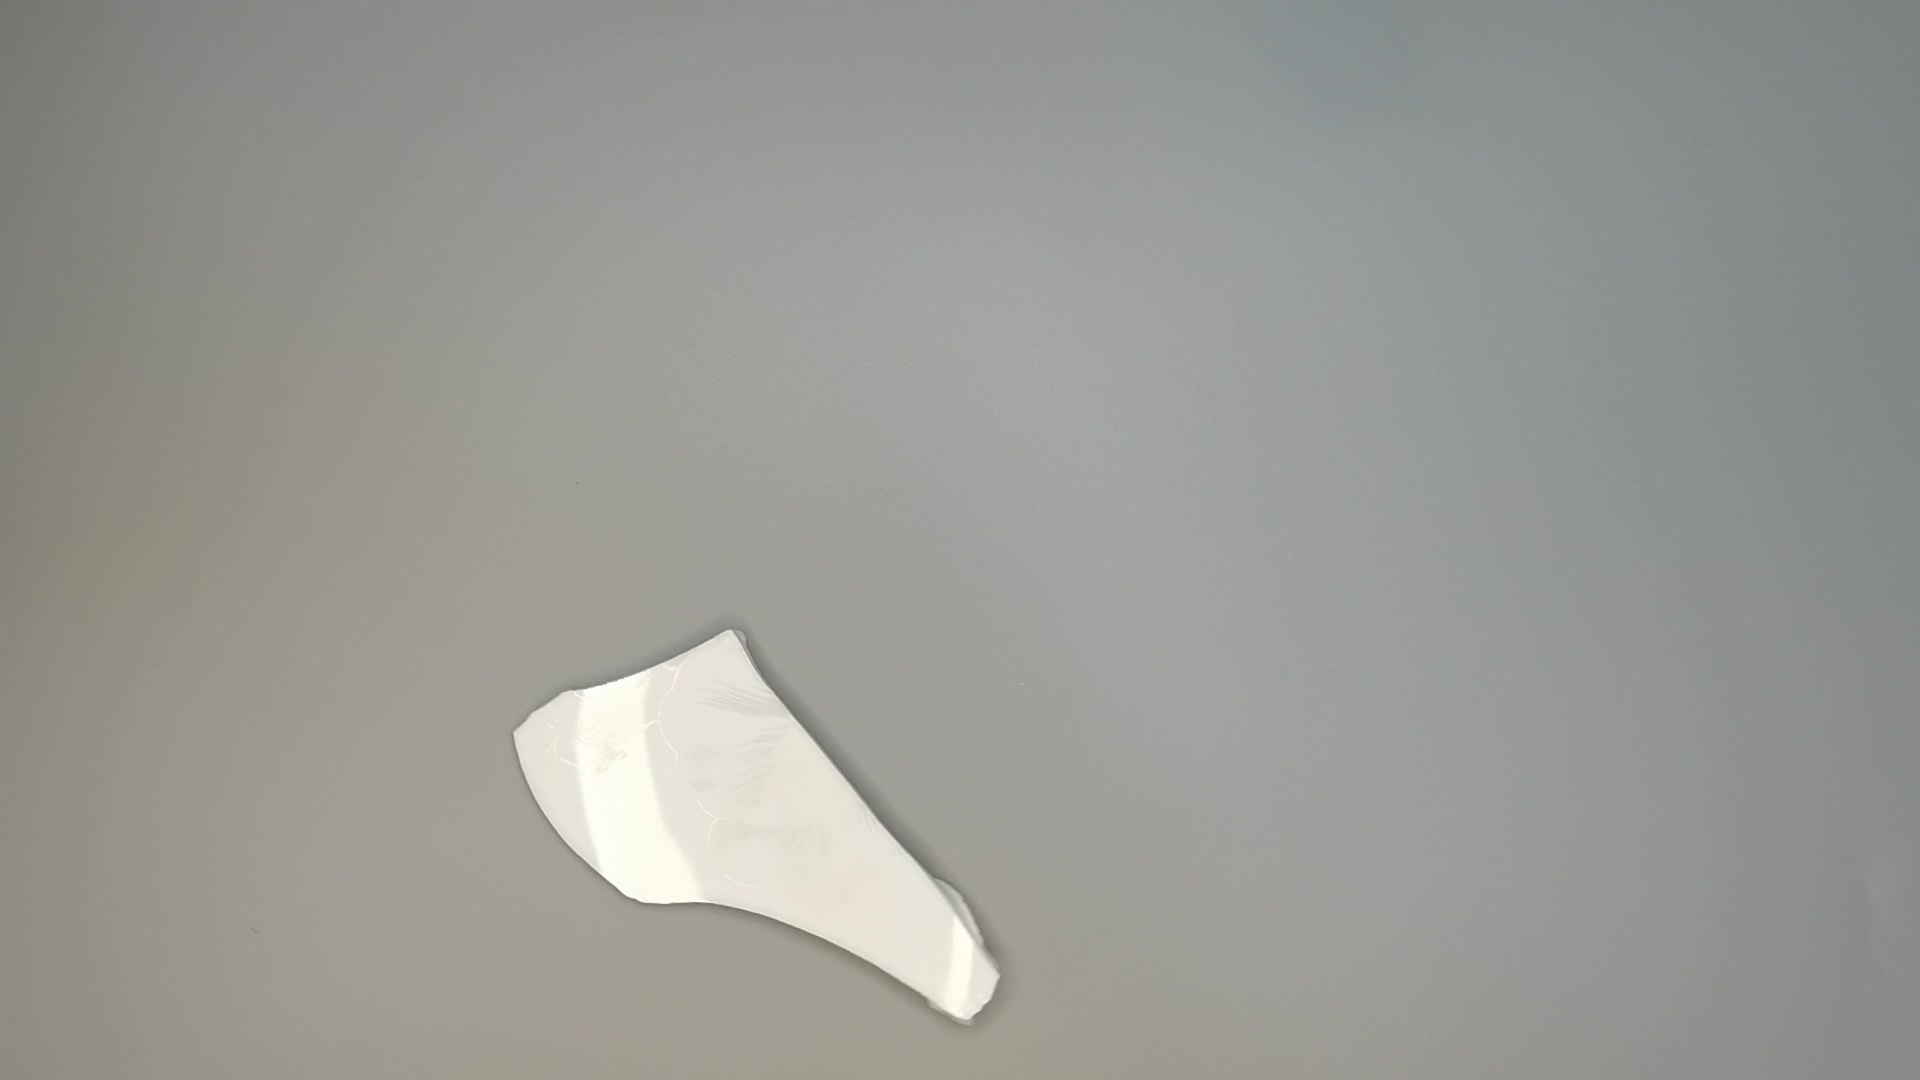ceramic: (516, 622, 1006, 1036)
